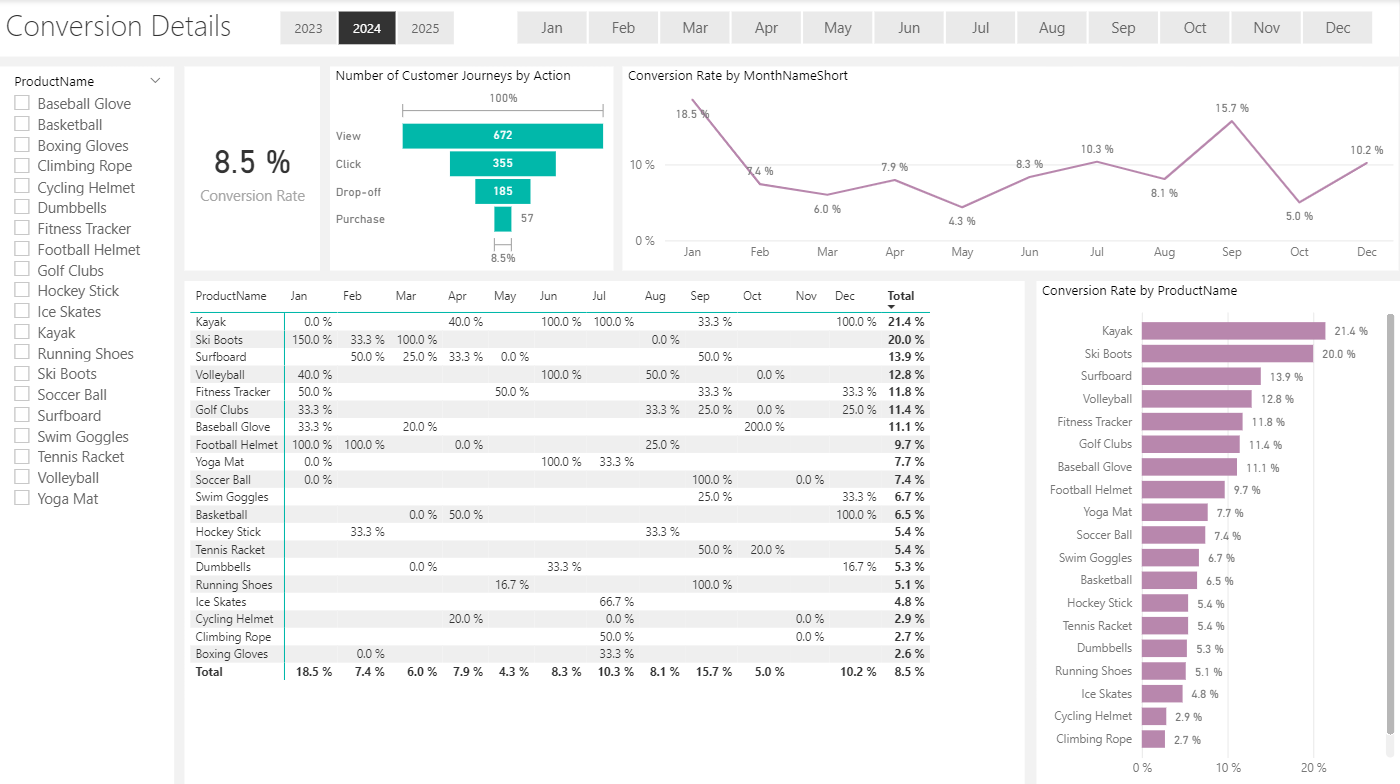

Layout of this report page (visuals, bound fields, positions):
{"tool":"powerbi","page":{"name":"Conversion Details","canvas":[1280,720],"ordinal":1},"visuals":[{"type":"textbox","box":[0,0,1280,52.6],"z":0},{"type":"slicer","fields":{"Values":["dim_products.ProductName"]},"box":[0,61.9,159.4,658.4],"z":1000},{"type":"card","fields":{"Values":["_Calculations.Conversion Rate"]},"box":[168.5,61.9,123.8,186.7],"z":2000},{"type":"lineChart","fields":{"Y":["_Calculations.Conversion Rate"],"Category":["Calendar.MonthNameShort"]},"box":[570.1,61.9,710.3,186.7],"z":3000},{"type":"clusteredBarChart","fields":{"Category":["dim_products.ProductName"],"Y":["_Calculations.Conversion Rate"]},"box":[948,257.7,332.4,462.6],"z":4000},{"type":"slicer","fields":{"Values":["Calendar.Year"]},"box":[230.2,4.1,208.5,44.4],"z":5000},{"type":"slicer","fields":{"Values":["Calendar.MonthNameShort"]},"box":[448,4.6,832.3,43.7],"z":6000},{"type":"pivotTable","fields":{"Rows":["dim_products.ProductName"],"Values":["_Calculations.Conversion Rate"],"Columns":["Calendar.MonthNameShort"]},"box":[168.5,257.7,768.6,462.6],"z":7000},{"type":"funnel","fields":{"Category":["fact_customer_journey.Action"],"Y":["_Calculations.Number of Customer Journeys"]},"box":[301.4,61.9,259.5,186.7],"z":8000}]}

Visuals, with their boxes in screenshot pixels (x1, y1, x2, y2), scaled from the page's 1280x720 canvas onto the 1400x784 screenshot:
textbox: [x1=0, y1=0, x2=1399, y2=57]
slicer - dim_products.ProductName: [x1=0, y1=67, x2=174, y2=783]
card - _Calculations.Conversion Rate: [x1=184, y1=67, x2=320, y2=271]
lineChart - _Calculations.Conversion Rate x Calendar.MonthNameShort: [x1=624, y1=67, x2=1399, y2=271]
clusteredBarChart - dim_products.ProductName x _Calculations.Conversion Rate: [x1=1037, y1=281, x2=1399, y2=783]
slicer - Calendar.Year: [x1=252, y1=4, x2=480, y2=53]
slicer - Calendar.MonthNameShort: [x1=490, y1=5, x2=1399, y2=53]
pivotTable - dim_products.ProductName x _Calculations.Conversion Rate: [x1=184, y1=281, x2=1025, y2=783]
funnel - fact_customer_journey.Action x _Calculations.Number of Customer Journeys: [x1=330, y1=67, x2=613, y2=271]
